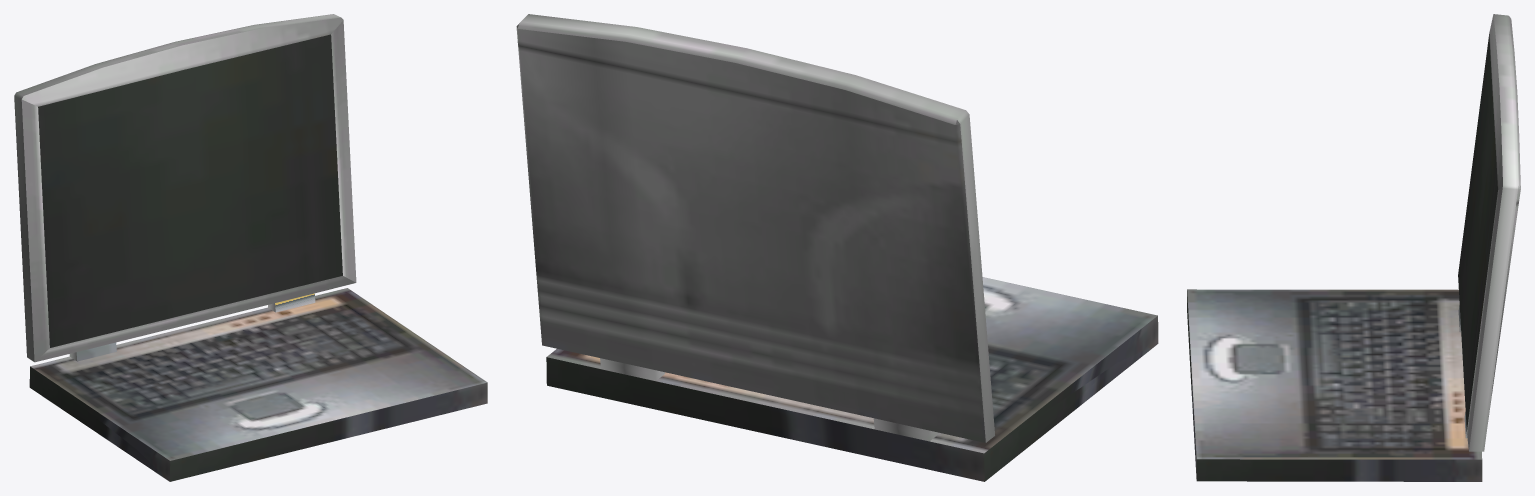
The model's file is laptop_nba2k11.obj.
3 renders of one model, left to right at view 1: azimuth 30°, elevation 25°; view 2: azimuth 150°, elevation 25°; view 3: azimuth 270°, elevation 25°, orthographic. The views are drawn at different scales.
Parts seen in each view (by area): view 1: Model001_Model001_5_Material45_1.0_0.0_0.0; view 2: Model001_Model001_5_Material45_1.0_0.0_0.0; view 3: Model001_Model001_5_Material45_1.0_0.0_0.0.
Part boxes in pixels (<box>): Model001_Model001_5_Material45_1.0_0.0_0.0: <box>14,14,487,481</box>; Model001_Model001_5_Material45_1.0_0.0_0.0: <box>516,14,1158,481</box>; Model001_Model001_5_Material45_1.0_0.0_0.0: <box>1187,14,1520,481</box>.
Bounding box in the file's own units: 0.5724 × 0.4909 × 0.4741.
